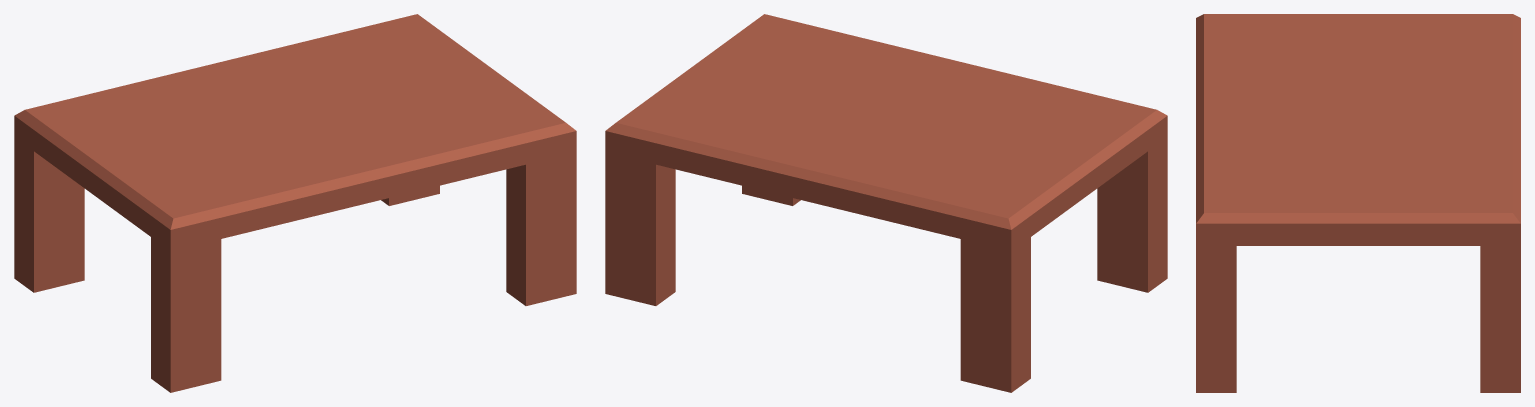
The model's file is Table.fbx.
3 views of the same model, side by side, from view 1: azimuth 30°, elevation 25°; view 2: azimuth 150°, elevation 25°; view 3: azimuth 270°, elevation 25° (orthographic). The views are drawn at different scales.
Parts seen in each view (by area): view 1: table; view 2: table; view 3: table.
Boxes of the visible parts, x1=… form: table: x1=14, y1=14, x2=576, y2=392; table: x1=605, y1=14, x2=1167, y2=392; table: x1=1196, y1=14, x2=1520, y2=392.
Size of the model in its own units: 3 by 2 by 1.2.
